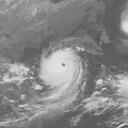cyclone: (36, 46, 87, 110)
